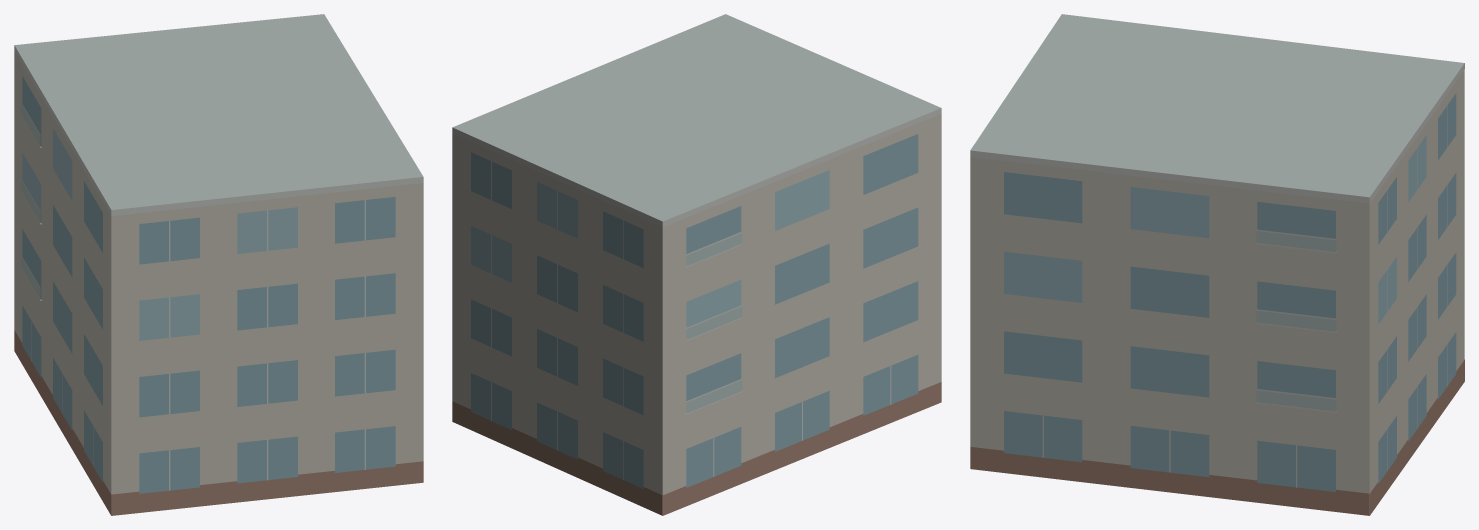
The model's file is survey-upis-32869505.glb.
3 views of the same model, side by side, from view 1: azimuth 30°, elevation 25°; view 2: azimuth 150°, elevation 25°; view 3: azimuth 270°, elevation 25° (orthographic). The views are drawn at different scales.
Visible parts, largest first — view 1: survey-upis-32869505.tmp; view 2: survey-upis-32869505.tmp; view 3: survey-upis-32869505.tmp.
Part boxes in pixels (x1,y1,x2,y2): survey-upis-32869505.tmp: [14, 14, 423, 515]; survey-upis-32869505.tmp: [452, 14, 941, 515]; survey-upis-32869505.tmp: [970, 14, 1464, 515].
Bounding box in the file's own units: 15.19 × 12.3 × 17.31.
